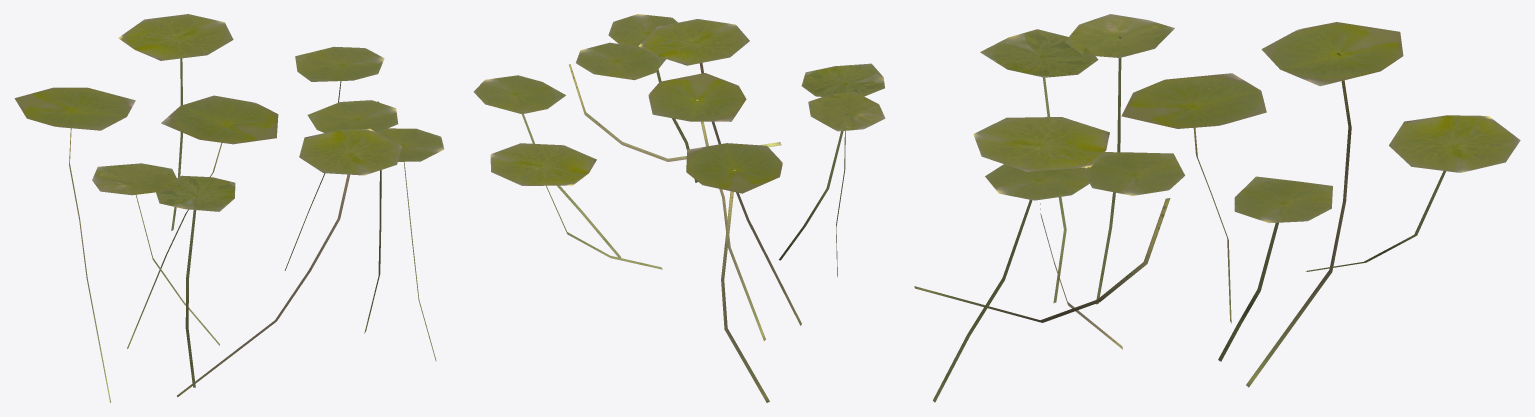
The picture shows the model from 3 angles, left to right: view 1: azimuth 30°, elevation 25°; view 2: azimuth 150°, elevation 25°; view 3: azimuth 270°, elevation 25°; orthographic projection. The views are drawn at different scales.
Parts seen in each view (by area): view 1: _8605_Var1_LOD3; view 2: _8605_Var1_LOD3; view 3: _8605_Var1_LOD3.
Part boxes in pixels (x1,y1,x2,y2): _8605_Var1_LOD3: [14, 14, 444, 402]; _8605_Var1_LOD3: [473, 14, 885, 402]; _8605_Var1_LOD3: [914, 14, 1520, 402].
Bounding box in the file's own units: 3.15 × 2.38 × 3.82.
